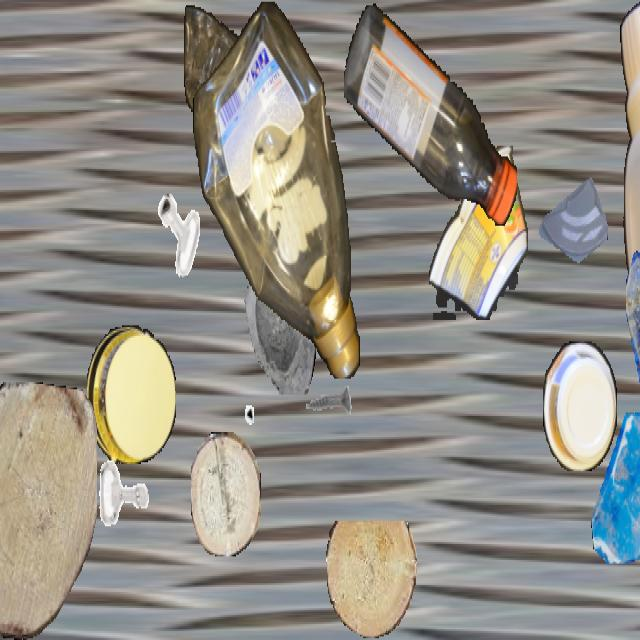glass: (229, 234, 319, 394), (539, 166, 607, 286), (589, 412, 640, 562), (626, 231, 640, 398)
metal: (93, 439, 155, 549), (301, 363, 353, 455), (204, 353, 254, 442), (155, 190, 203, 276), (0, 349, 5, 455)
plastic: (193, 1, 361, 378), (344, 2, 516, 229), (429, 146, 527, 320), (618, 2, 640, 634), (87, 325, 175, 464), (543, 342, 617, 469), (184, 2, 258, 126)
wood: (0, 382, 97, 638), (326, 521, 416, 638), (191, 432, 261, 556)
